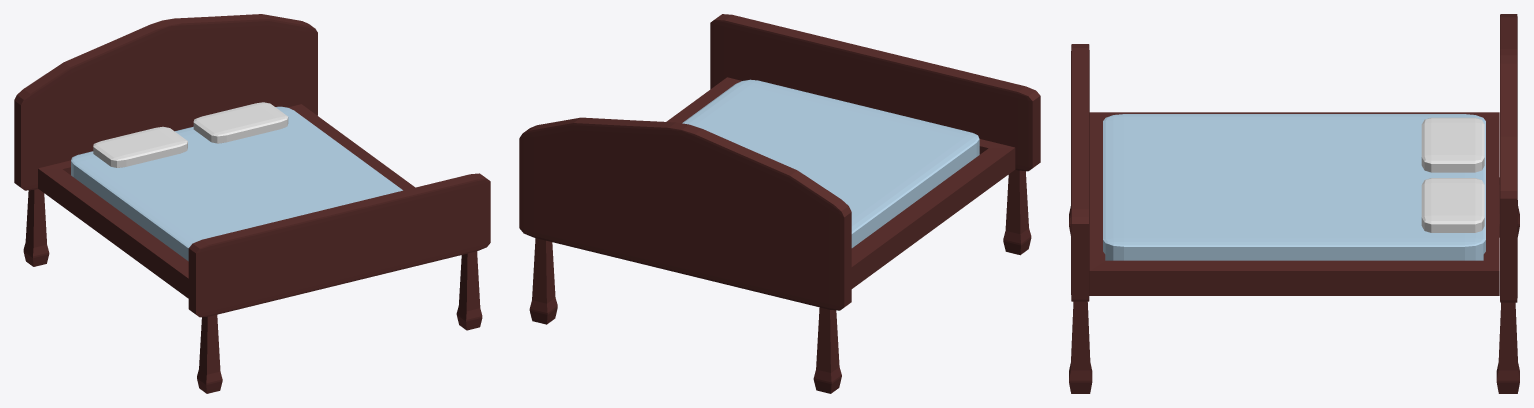
Rendered from CamaPatrao.fbx.
3 renders of one model, left to right at view 1: azimuth 30°, elevation 25°; view 2: azimuth 150°, elevation 25°; view 3: azimuth 270°, elevation 25°, orthographic. The views are drawn at different scales.
Parts seen in each view (by area): view 1: suporte3, suporte1, Colchao, suporte2, Pernas, Travesseiro.001, Travesseiro; view 2: suporte3, Colchao, suporte1, suporte2, Pernas; view 3: Colchao, suporte2, suporte3, suporte1, Pernas, Travesseiro, Travesseiro.001.
Part boxes in pixels (x1,y1,x2,y2): suporte3: (14, 14, 317, 190); suporte1: (188, 173, 490, 317); Colchao: (71, 106, 402, 261); suporte2: (38, 104, 415, 298); Pernas: (23, 189, 482, 393); Travesseiro.001: (193, 102, 288, 143); Travesseiro: (93, 126, 187, 167); suporte3: (519, 117, 851, 310); Colchao: (682, 79, 979, 247); suporte1: (710, 14, 1040, 171); suporte2: (666, 77, 1015, 288); Pernas: (529, 170, 1031, 393); Colchao: (1103, 114, 1485, 260); suporte2: (1089, 112, 1499, 295); suporte3: (1500, 14, 1517, 302); suporte1: (1071, 44, 1089, 301); Pernas: (1069, 177, 1519, 393); Travesseiro: (1421, 117, 1484, 172); Travesseiro.001: (1421, 178, 1484, 232).
Size of the model in its own units: 309 by 207 by 329.
